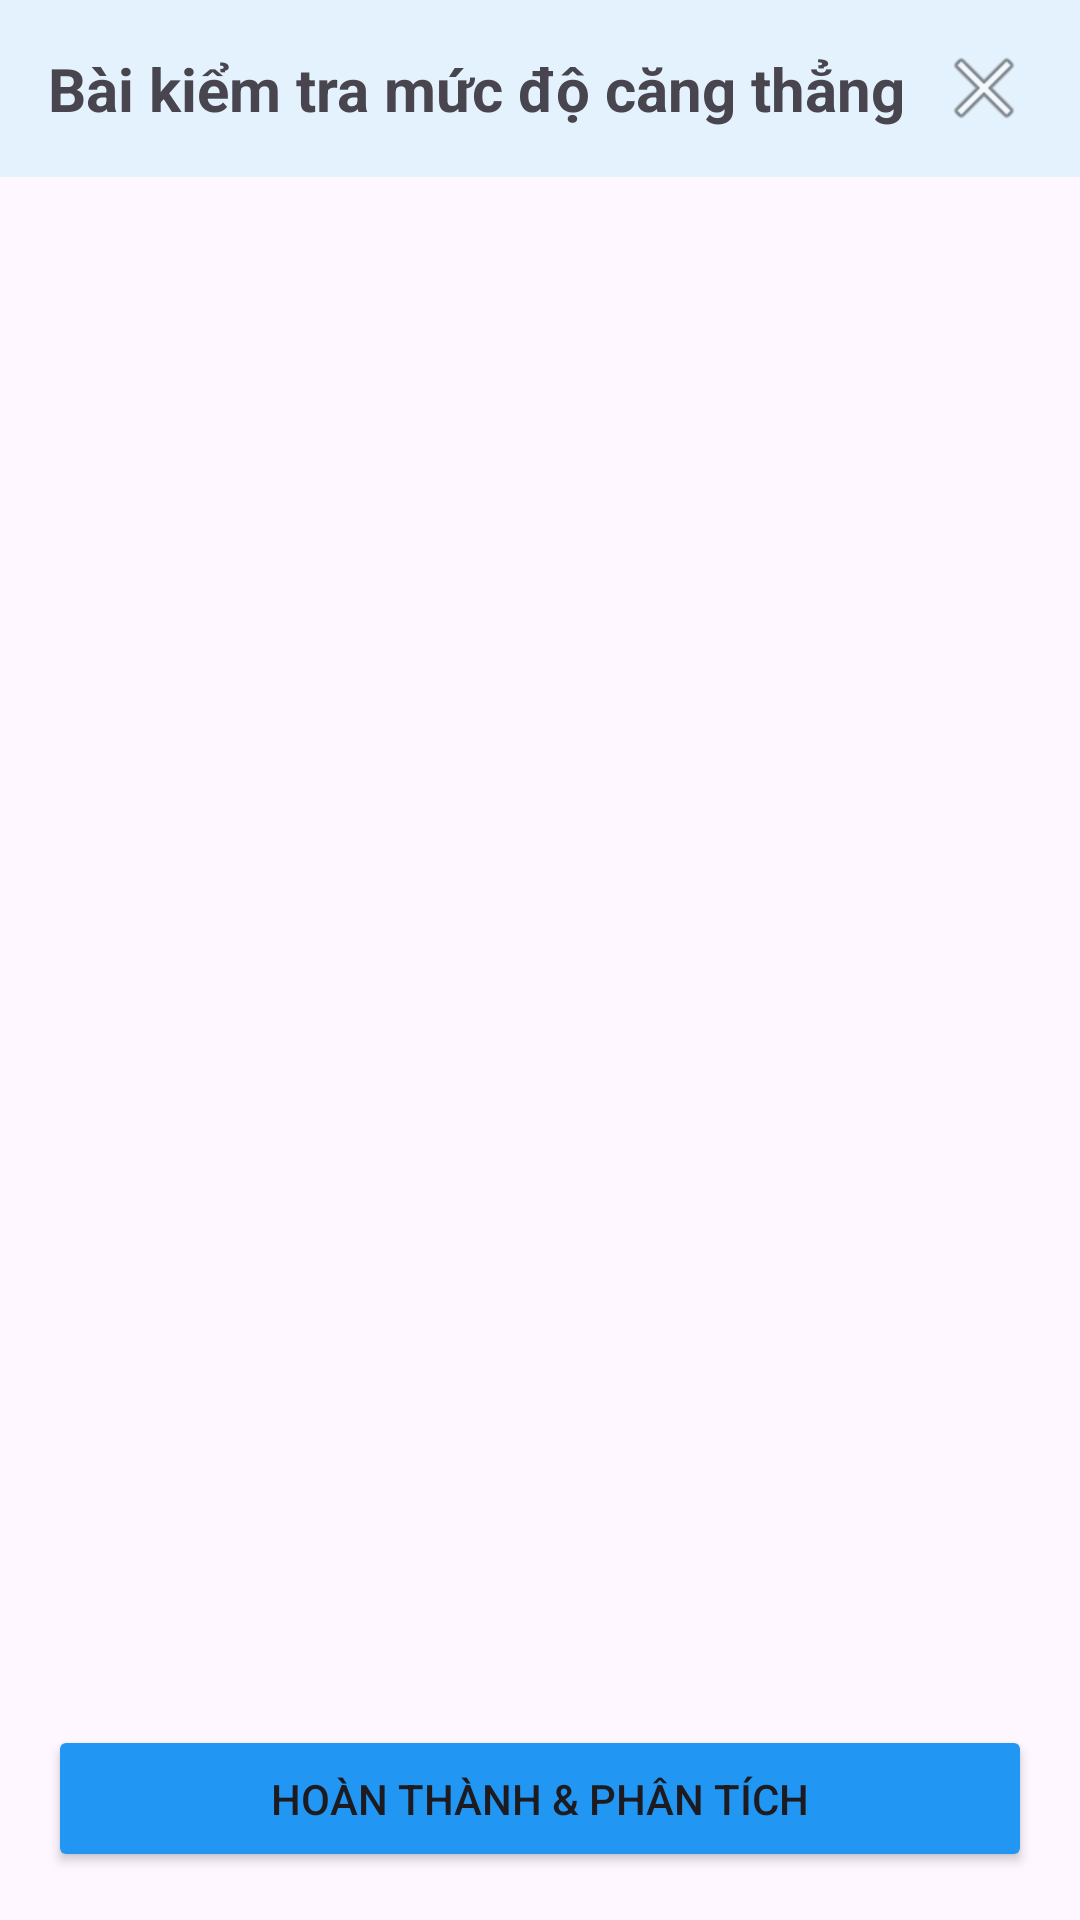

Icon click points for this 1080w x 1920h phone screenshot, format (x,y):
close clear cancel: (984,88)
